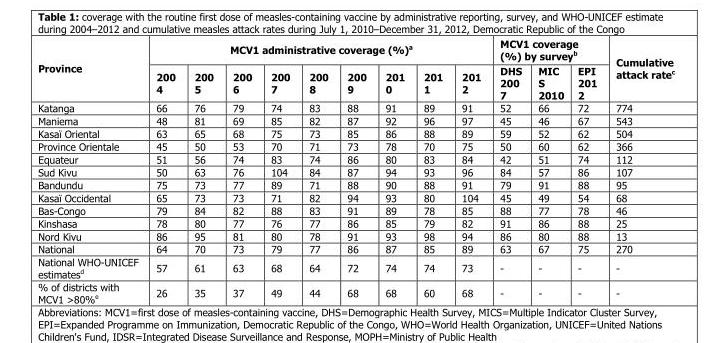table: (37, 36, 674, 304)
table column: (37, 36, 146, 304), (605, 36, 674, 304), (529, 36, 570, 304), (489, 36, 529, 304), (298, 36, 337, 304), (146, 36, 184, 304), (184, 36, 222, 304), (222, 36, 260, 304), (260, 36, 298, 304), (337, 36, 375, 304), (375, 36, 413, 304), (413, 36, 451, 304), (451, 36, 489, 304), (570, 36, 605, 304)
table column header: (37, 36, 674, 100)
table row: (37, 62, 674, 100), (37, 36, 674, 62), (37, 254, 674, 279), (37, 279, 674, 304), (37, 100, 674, 113), (37, 113, 674, 126), (37, 126, 674, 139), (37, 139, 674, 152), (37, 152, 674, 165), (37, 177, 674, 190), (37, 190, 674, 203), (37, 203, 674, 216), (37, 216, 674, 229), (37, 241, 674, 254), (37, 165, 674, 177), (37, 229, 674, 241)
table spanning cell: (146, 36, 489, 62), (37, 36, 146, 100), (605, 36, 674, 100), (489, 36, 605, 62)
